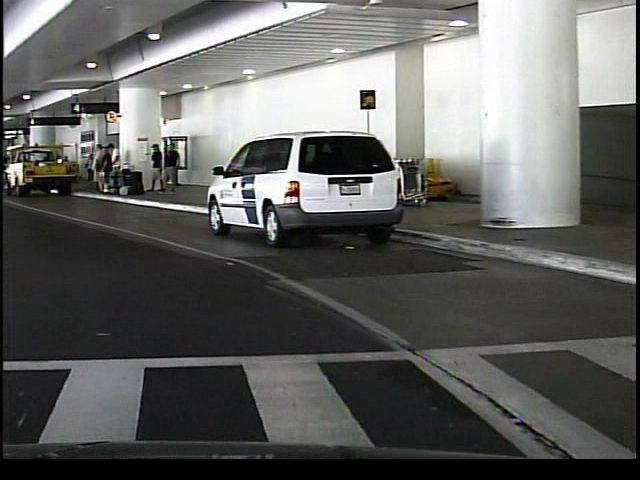person: (161, 139, 178, 194), (87, 140, 102, 194)
